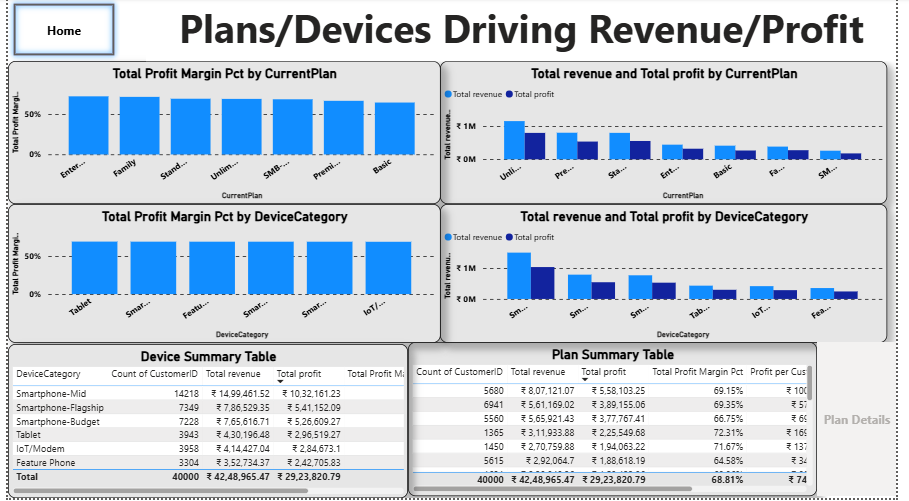

The dashboard page shown, as its layout file describes it:
{"tool":"powerbi","page":{"name":"Plans/Devices-Revenue/Profit","canvas":[1280,720],"ordinal":8},"visuals":[{"type":"clusteredColumnChart","fields":{"Category":["Telecom_Customers.CurrentPlan"],"Y":["Measure.Total revenue","Measure.Total profit"]},"box":[622.5,90.4,644.4,205.6],"z":0},{"type":"clusteredColumnChart","fields":{"Category":["Telecom_Customers.CurrentPlan"],"Y":["Measure.Total Profit Margin Pct"]},"box":[0,90.4,622.5,205.6],"z":1000},{"type":"tableEx","title":"Plan Summary Table","fields":{"Values":["Telecom_Customers.CustomerID","Measure.Total revenue","Measure.Total profit","Measure.Total Profit Margin Pct","Measure.Profit per Customer","Telecom_Customers.CurrentPlan","Telecom_Customers.Segment"]},"box":[576,495.4,589,221.8],"z":4000},{"type":"clusteredColumnChart","fields":{"Category":["Telecom_Customers.DeviceCategory"],"Y":["Measure.Total revenue","Measure.Total profit"]},"box":[622.5,295.9,644.4,199.7],"z":5000},{"type":"clusteredColumnChart","fields":{"Category":["Telecom_Customers.DeviceCategory"],"Y":["Measure.Total Profit Margin Pct"]},"box":[0,295.9,622.5,199.7],"z":8000},{"type":"tableEx","title":"Device Summary Table","fields":{"Values":["Telecom_Customers.DeviceCategory","Telecom_Customers.CustomerID","Measure.Total revenue","Measure.Total profit","Measure.Total Profit Margin Pct","Measure.Profit per Customer"]},"box":[0,498.2,576,221.8],"z":9000},{"type":"textbox","box":[198.7,0,1081.4,90.7],"z":10000},{"type":"actionButton","box":[0,0,161.3,90.7],"z":20000},{"type":"actionButton","box":[1164.8,495.7,115.2,221.6],"z":21000}]}

Visuals, with their boxes in screenshot pixels (x1, y1, x2, y2), scaled from the page's 1280x720 canvas onto the 909x501 screenshot:
clusteredColumnChart - Telecom_Customers.CurrentPlan x Measure.Total revenue: {"left": 442, "top": 63, "right": 900, "bottom": 206}
clusteredColumnChart - Telecom_Customers.CurrentPlan x Measure.Total Profit Margin Pct: {"left": 0, "top": 63, "right": 442, "bottom": 206}
"Plan Summary Table" tableEx: {"left": 409, "top": 345, "right": 827, "bottom": 499}
clusteredColumnChart - Telecom_Customers.DeviceCategory x Measure.Total revenue: {"left": 442, "top": 206, "right": 900, "bottom": 345}
clusteredColumnChart - Telecom_Customers.DeviceCategory x Measure.Total Profit Margin Pct: {"left": 0, "top": 206, "right": 442, "bottom": 345}
"Device Summary Table" tableEx: {"left": 0, "top": 347, "right": 409, "bottom": 500}
textbox: {"left": 141, "top": 0, "right": 908, "bottom": 63}
actionButton: {"left": 0, "top": 0, "right": 115, "bottom": 63}
actionButton: {"left": 827, "top": 345, "right": 908, "bottom": 499}
